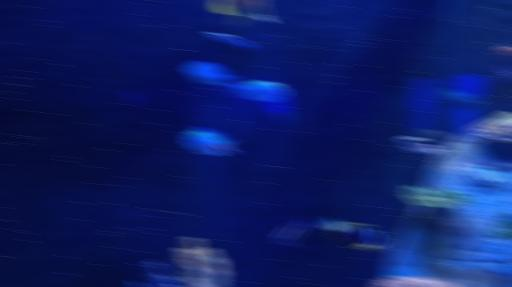Fish: (323, 217, 382, 251), (185, 127, 236, 155), (214, 0, 273, 24), (186, 61, 237, 88), (228, 80, 287, 101), (275, 220, 310, 247), (398, 136, 447, 155), (206, 32, 253, 49), (500, 68, 511, 80), (500, 47, 511, 54)
